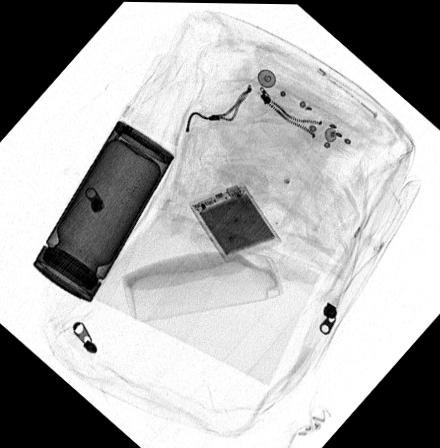Powerbank: (187, 179, 283, 261)
